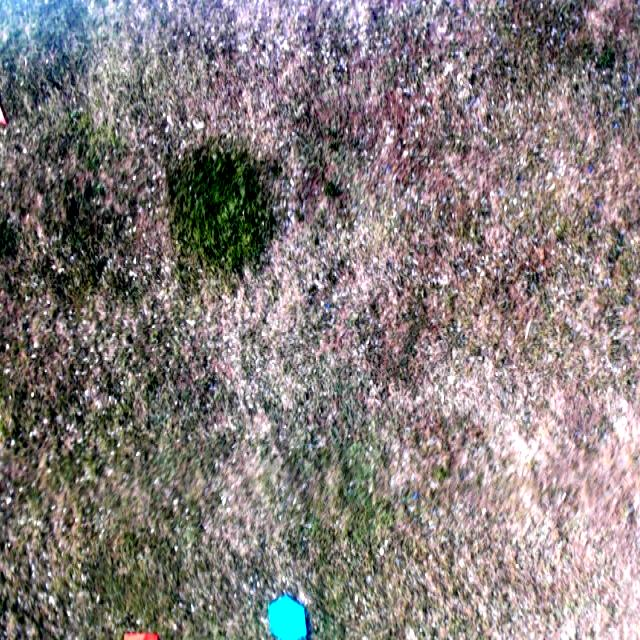blue_hexagon: (266, 596, 311, 640)
